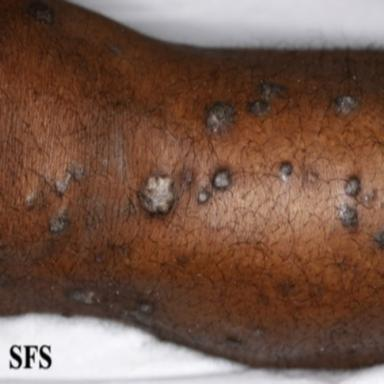lichen: (247, 81, 286, 117), (139, 174, 174, 214), (55, 164, 85, 195), (205, 103, 235, 133), (67, 287, 104, 304), (49, 208, 69, 233), (339, 204, 358, 230), (29, 4, 53, 24), (335, 96, 356, 115), (344, 176, 361, 196), (213, 170, 229, 189), (279, 161, 293, 181), (24, 191, 37, 210), (373, 228, 384, 249), (181, 168, 193, 185), (198, 190, 211, 203), (139, 304, 153, 314)
